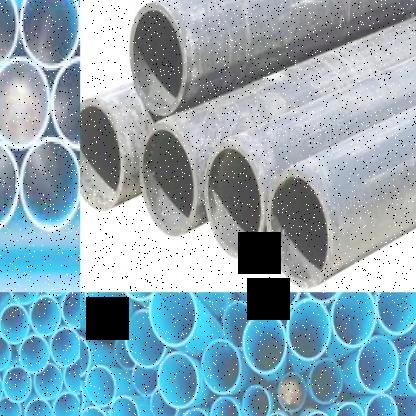pipe: (266, 169, 333, 289), (204, 140, 266, 259), (139, 123, 198, 236), (129, 3, 188, 115), (19, 137, 80, 230), (80, 98, 124, 211), (0, 57, 50, 149), (20, 0, 80, 68), (50, 57, 80, 150), (286, 298, 331, 360), (243, 312, 287, 374), (148, 292, 197, 347), (124, 309, 167, 368), (357, 336, 399, 394), (332, 292, 376, 347), (157, 352, 199, 408), (201, 338, 241, 394), (0, 136, 19, 232), (375, 292, 416, 335), (309, 358, 342, 404), (223, 301, 254, 349), (84, 292, 129, 324), (85, 364, 116, 407), (30, 296, 61, 336), (276, 372, 307, 412), (0, 0, 18, 68), (50, 327, 80, 367), (19, 335, 50, 373), (0, 303, 29, 343), (2, 366, 32, 403), (34, 364, 62, 400), (255, 292, 302, 313), (113, 333, 136, 371), (241, 385, 269, 416), (132, 365, 158, 397), (150, 388, 178, 416), (365, 393, 397, 416), (108, 394, 140, 416), (61, 292, 80, 329), (52, 392, 80, 416), (405, 340, 416, 397), (209, 396, 240, 416), (64, 358, 80, 393), (391, 395, 416, 416), (23, 399, 53, 416), (80, 334, 91, 378), (333, 402, 365, 416), (301, 292, 345, 302), (0, 396, 21, 416), (0, 335, 11, 371), (9, 292, 41, 304), (80, 406, 110, 416), (180, 409, 209, 416), (0, 371, 3, 406)
